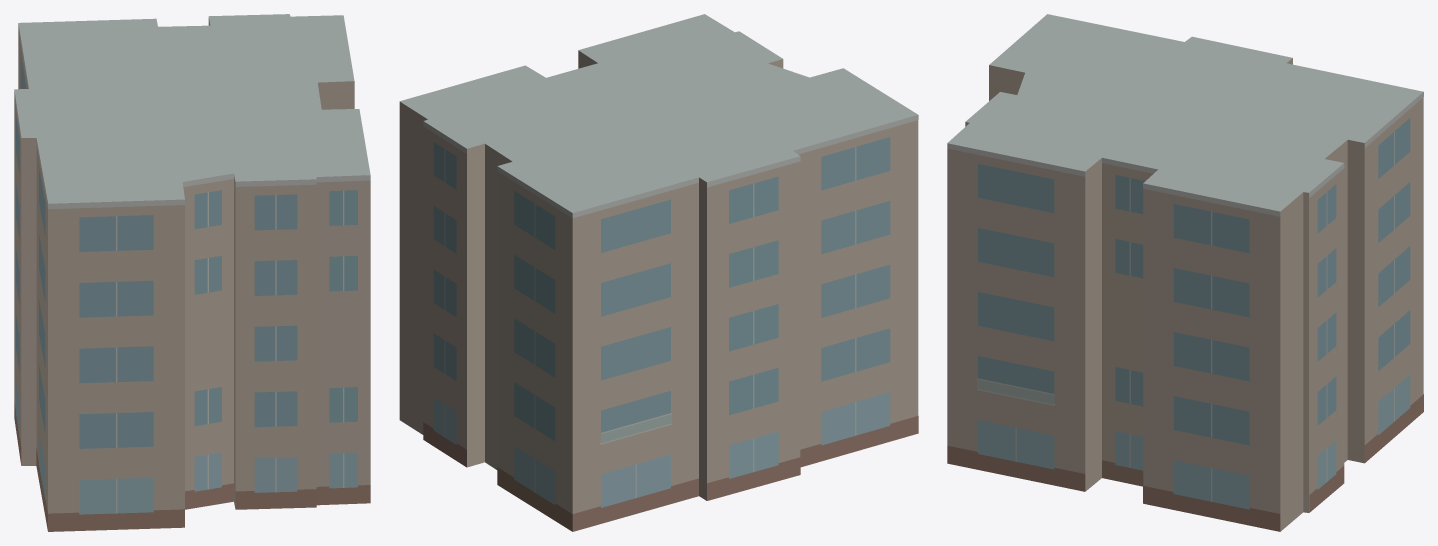
The model's file is survey-upis-32970768.glb.
The picture shows the model from 3 angles, left to right: view 1: azimuth 30°, elevation 25°; view 2: azimuth 150°, elevation 25°; view 3: azimuth 270°, elevation 25°; orthographic projection. The views are drawn at different scales.
Parts seen in each view (by area): view 1: survey-upis-32970768.tmp; view 2: survey-upis-32970768.tmp; view 3: survey-upis-32970768.tmp.
Part boxes in pixels (left/top/right/bottom): survey-upis-32970768.tmp: left=14, top=14, right=370, bottom=531; survey-upis-32970768.tmp: left=399, top=14, right=918, bottom=531; survey-upis-32970768.tmp: left=947, top=14, right=1423, bottom=531.
Size of the model in its own units: 19.66 by 14.85 by 20.03.
